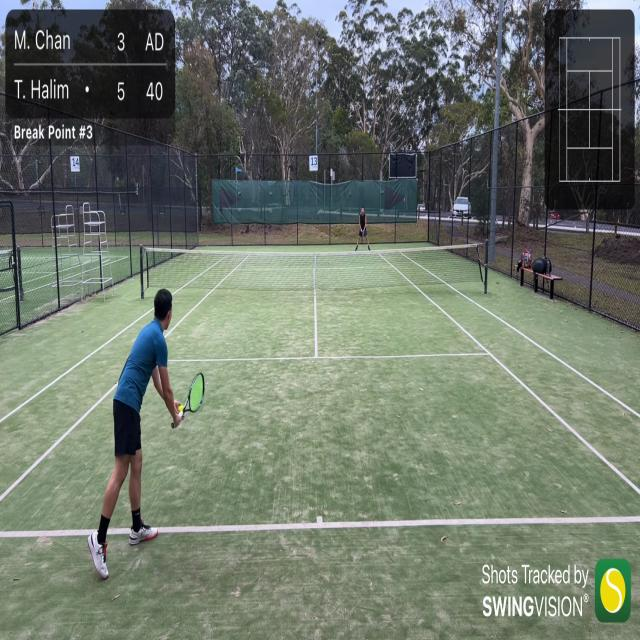ball: (178, 403, 185, 419)
